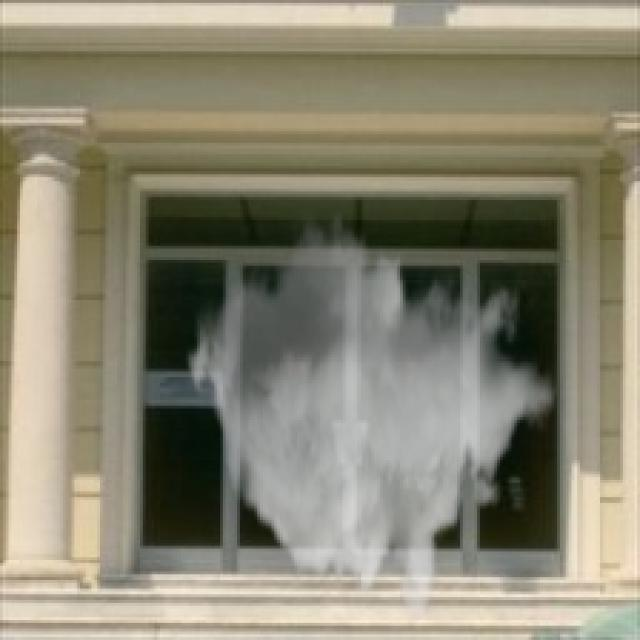Smoke: (182, 208, 558, 626)
